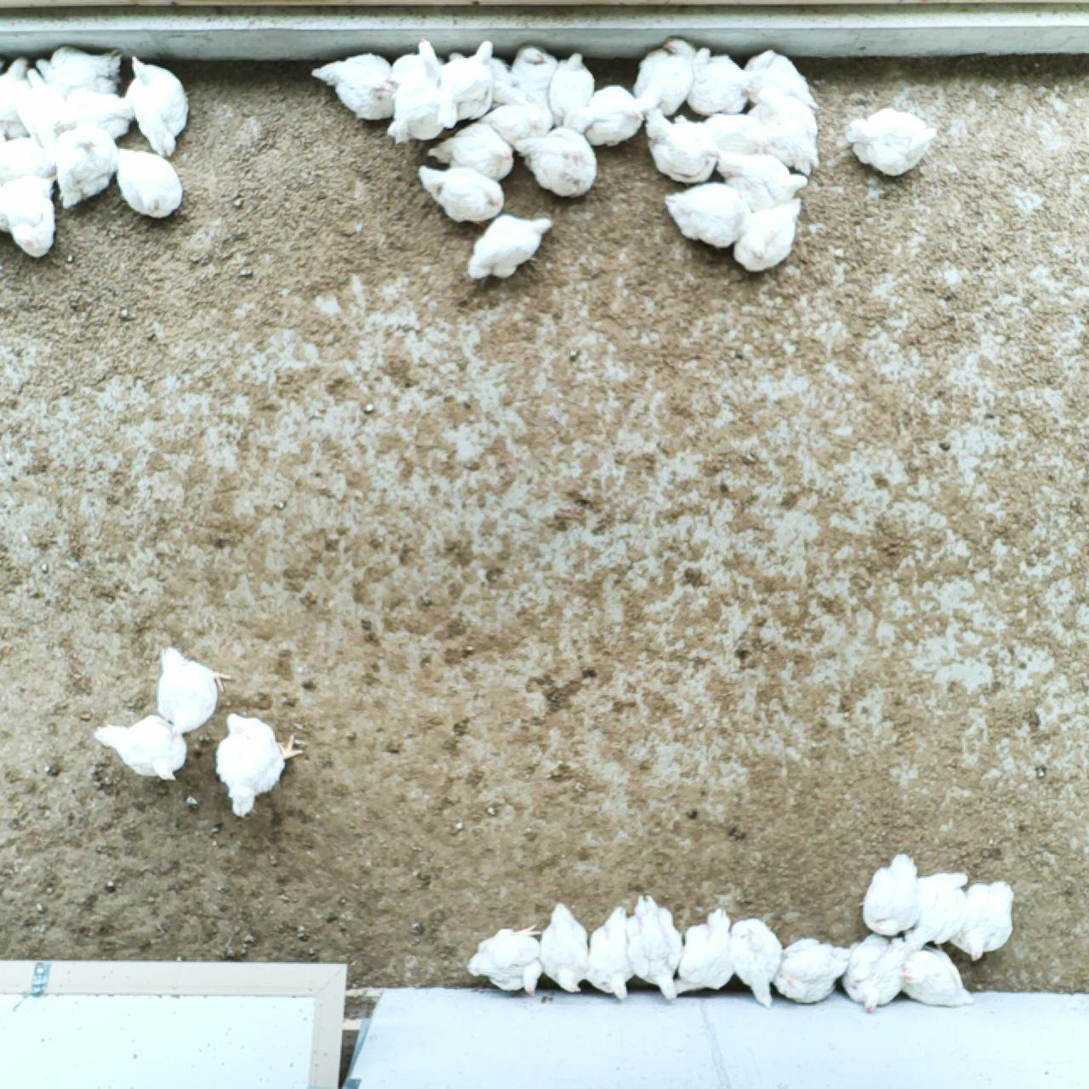chicken: (213, 710, 306, 820), (90, 710, 190, 787), (152, 643, 233, 738), (123, 51, 192, 160), (844, 104, 940, 180), (305, 49, 399, 124), (460, 920, 545, 1002), (643, 103, 723, 190), (513, 123, 600, 202), (623, 894, 683, 1006), (465, 214, 558, 285), (750, 86, 822, 177), (663, 178, 749, 253), (413, 161, 507, 229), (731, 194, 807, 277), (423, 120, 516, 185), (947, 878, 1018, 963), (855, 852, 924, 939), (671, 906, 738, 995), (714, 149, 808, 212), (769, 935, 851, 1007), (840, 931, 909, 1016), (53, 123, 121, 209), (437, 39, 499, 130), (115, 145, 185, 225), (635, 34, 701, 117), (907, 869, 970, 953), (586, 905, 640, 1002), (899, 943, 976, 1011), (741, 46, 821, 111), (727, 917, 781, 1013), (443, 48, 527, 109), (538, 901, 591, 997), (0, 174, 59, 260), (54, 83, 137, 144), (31, 46, 122, 100), (686, 45, 752, 116), (507, 42, 562, 127), (386, 86, 456, 148), (577, 83, 645, 145), (477, 100, 556, 153), (17, 66, 68, 145), (548, 50, 599, 127), (388, 37, 449, 95), (701, 110, 774, 158), (0, 54, 38, 140), (0, 136, 56, 183)
